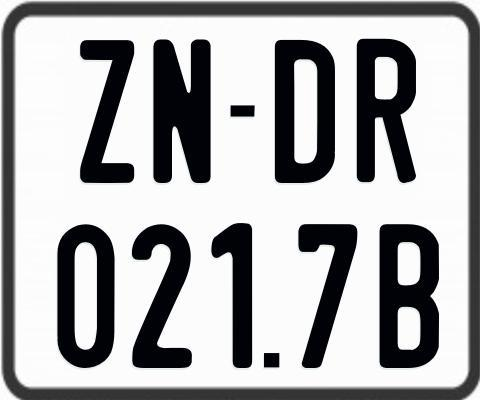0: (55, 222, 117, 372)
1: (210, 223, 255, 370)
2: (131, 224, 191, 371)
7: (297, 223, 359, 369)
B: (377, 223, 441, 373)
D: (275, 38, 337, 182)
N: (153, 36, 214, 186)
R: (356, 37, 420, 187)
Z: (80, 40, 136, 189)
